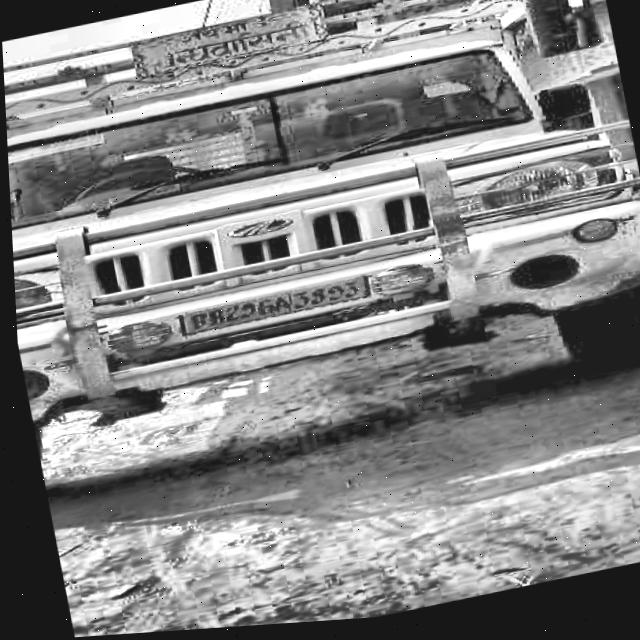light_vehicle: (2, 3, 640, 417)
